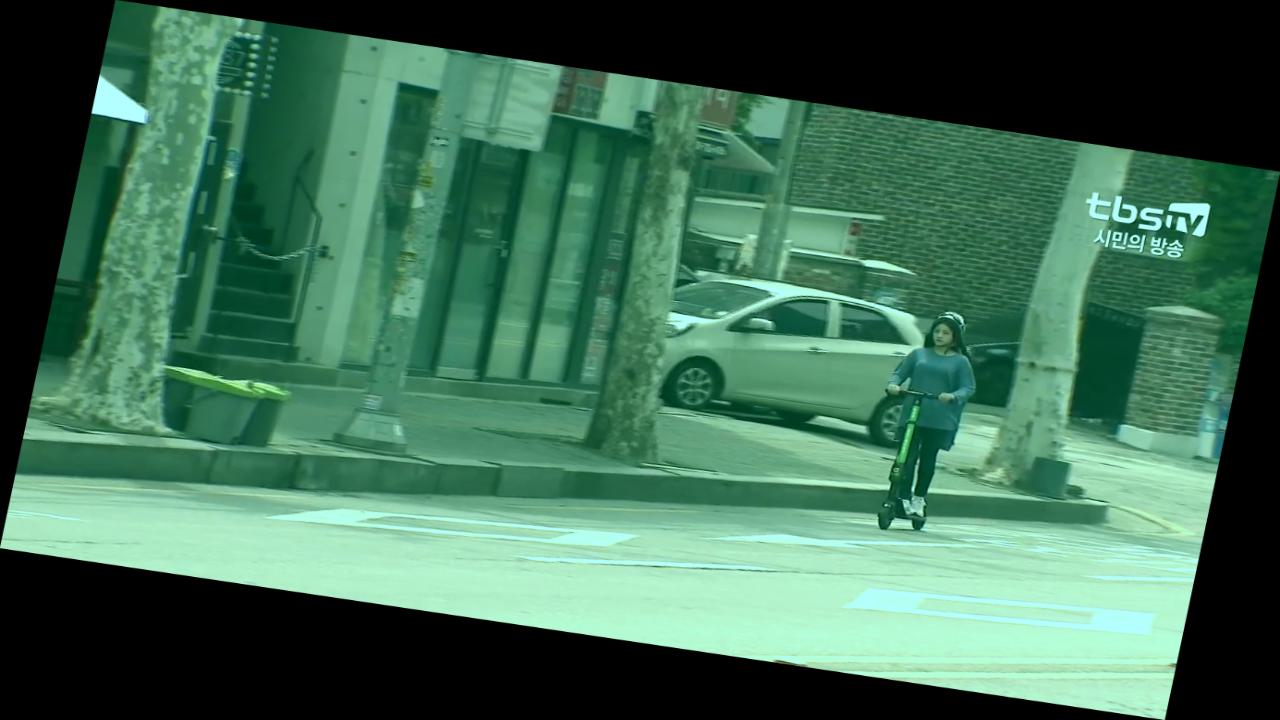helmet: (853, 300, 998, 541)
